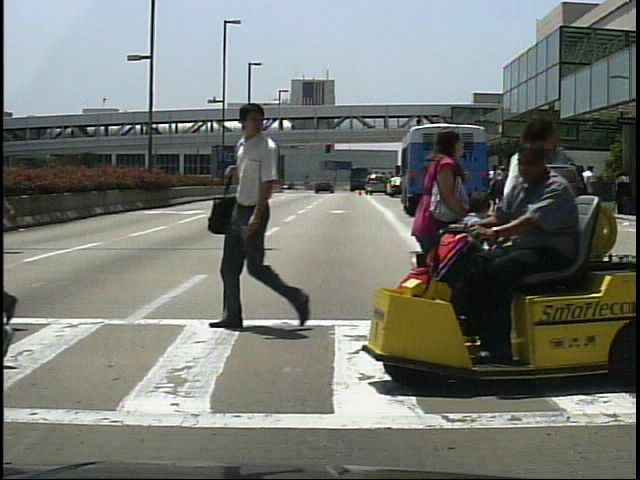person: (466, 143, 602, 376), (207, 99, 313, 344), (468, 109, 563, 363), (408, 125, 472, 355), (452, 189, 492, 321), (582, 163, 602, 218), (500, 166, 518, 219), (492, 163, 511, 213)
